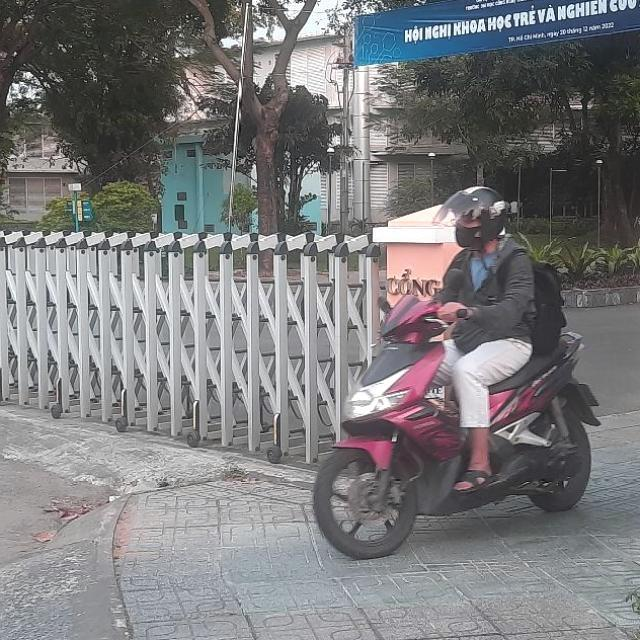Helmet: (444, 186, 506, 246)
